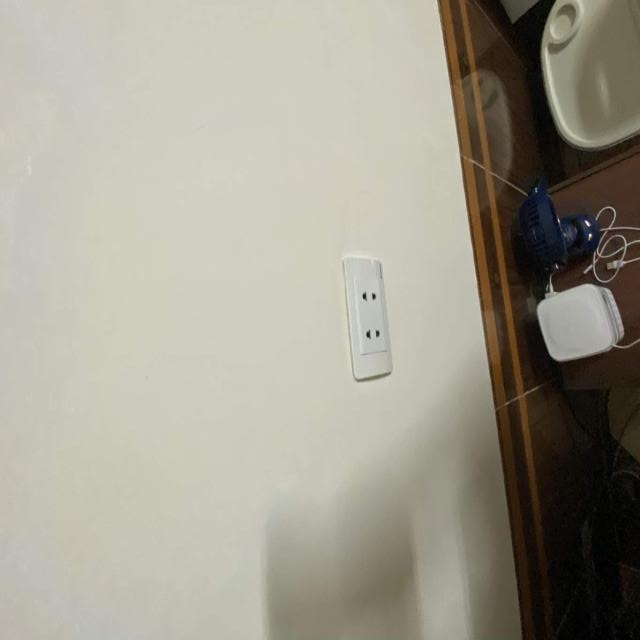outlet: (342, 256, 392, 382)
